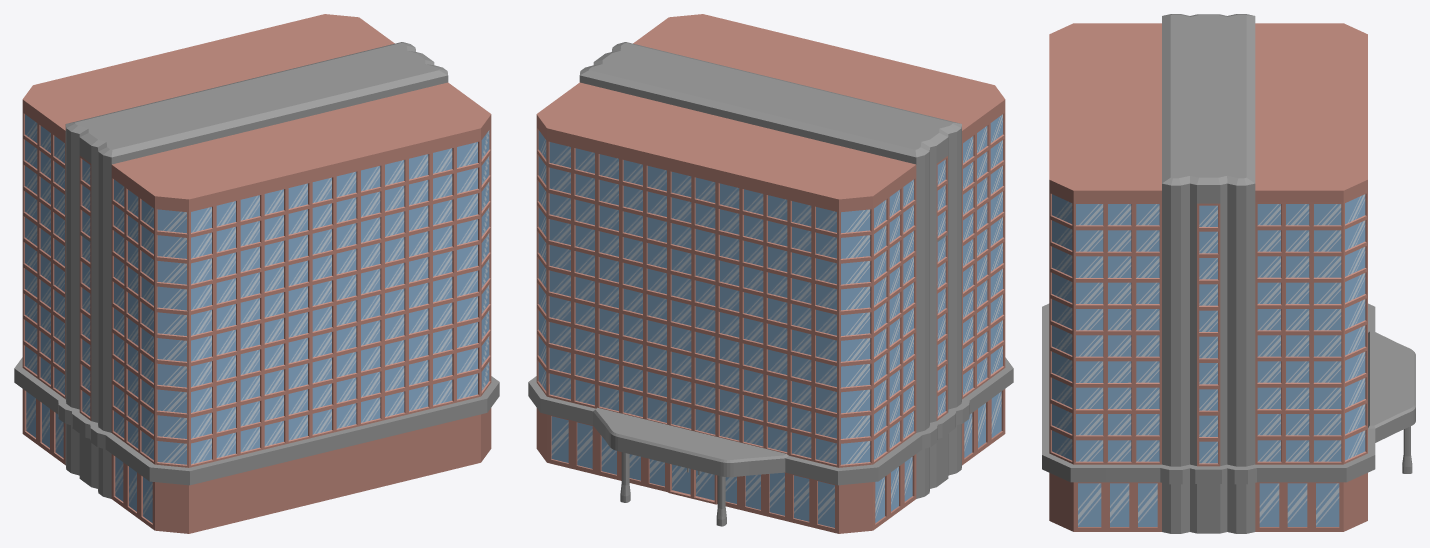
File: Building07WTextures.fbx
The picture shows the model from 3 angles, left to right: view 1: azimuth 30°, elevation 25°; view 2: azimuth 150°, elevation 25°; view 3: azimuth 270°, elevation 25°; orthographic projection. The views are drawn at different scales.
Visible parts, largest first — view 1: Box005; view 2: Box005; view 3: Box005.
Part boxes in pixels (<box>): Box005: <box>14,14,499,533</box>; Box005: <box>528,14,1013,533</box>; Box005: <box>1042,14,1415,533</box>.
Bounding box in the file's own units: 264 × 243 × 234.
2 materials, 1 textured.
